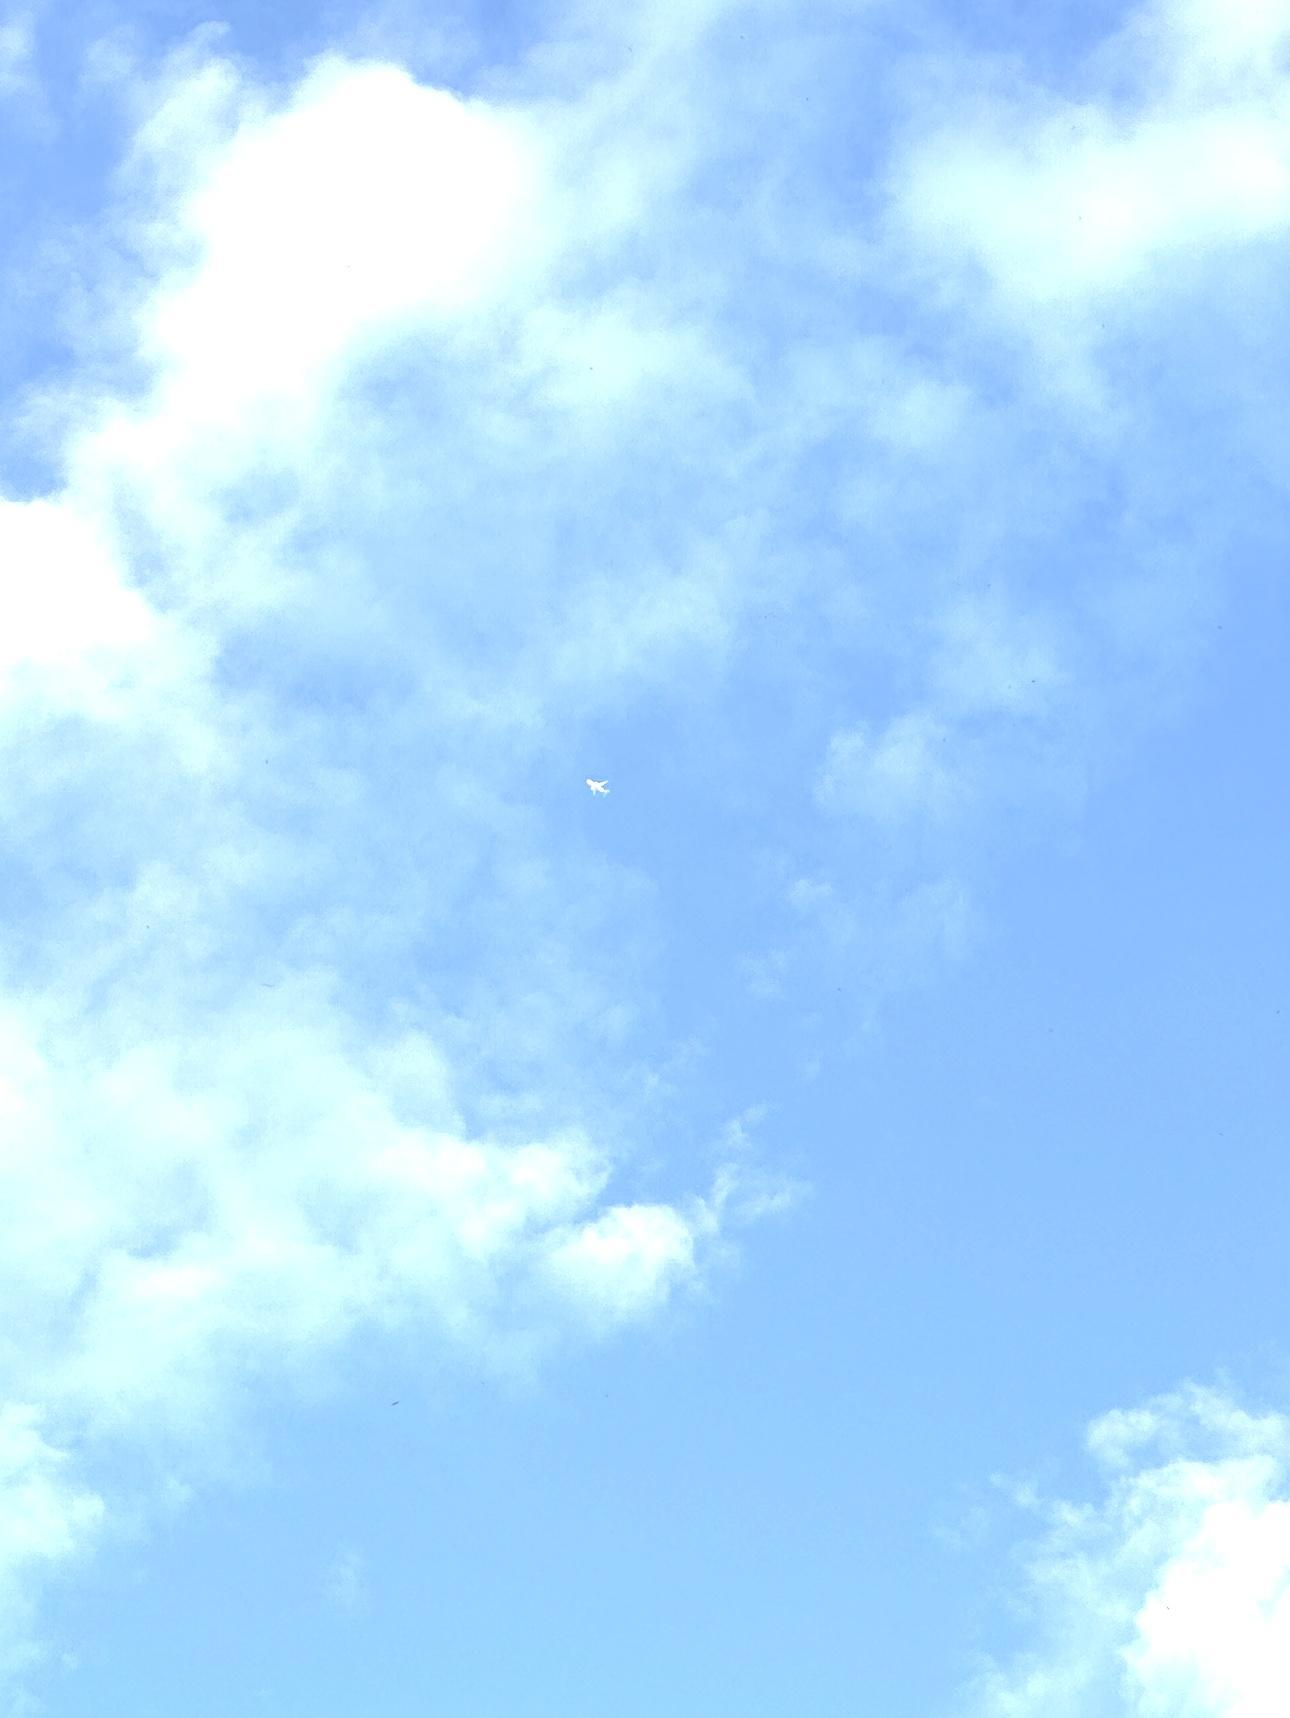Plane: (554, 761, 641, 820)
